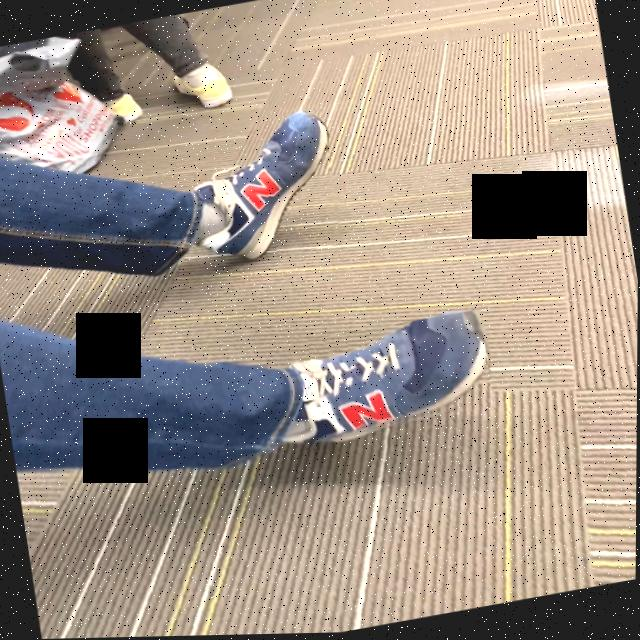shoe: (302, 313, 487, 439), (208, 114, 327, 262)
